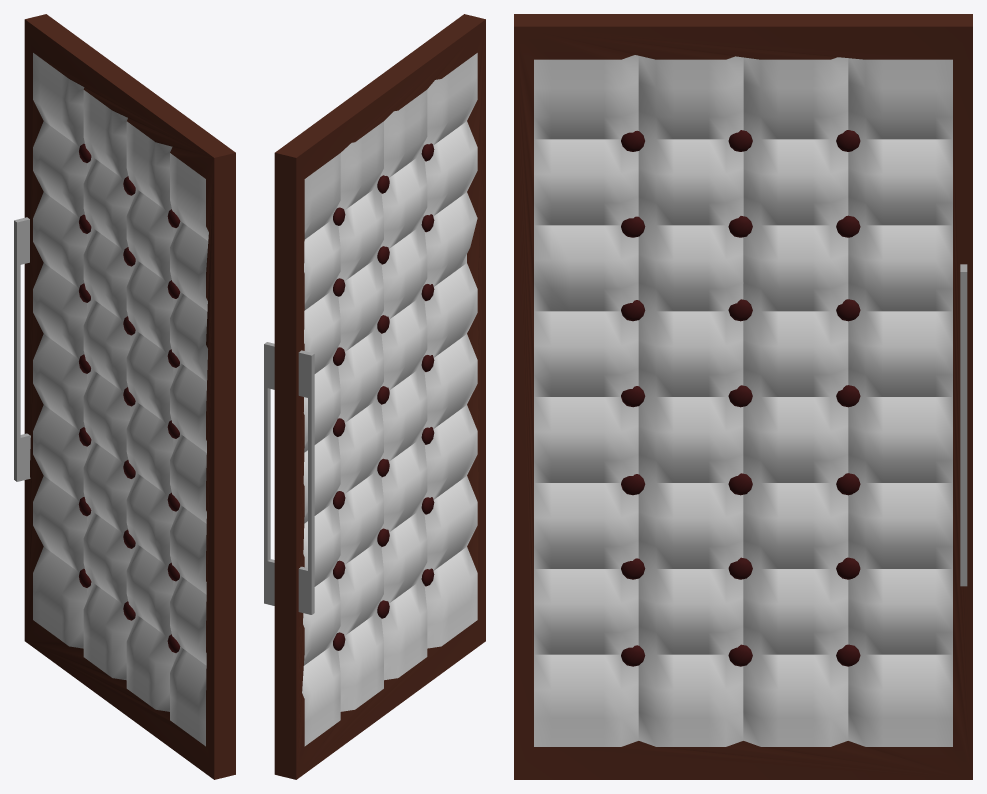
File: Fancy Single Door.fbx
3 views of the same model, side by side, from view 1: azimuth 30°, elevation 25°; view 2: azimuth 150°, elevation 25°; view 3: azimuth 270°, elevation 25° (orthographic). The views are drawn at different scales.
Parts seen in each view (by area): view 1: Fancy Single Door; view 2: Fancy Single Door; view 3: Fancy Single Door.
Boxes of the visible parts, left/top/right/bottom form: Fancy Single Door: left=14, top=14, right=235, bottom=779; Fancy Single Door: left=264, top=14, right=485, bottom=779; Fancy Single Door: left=514, top=14, right=972, bottom=779.
Bounding box in the file's own units: 29.07 × 362 × 200.
